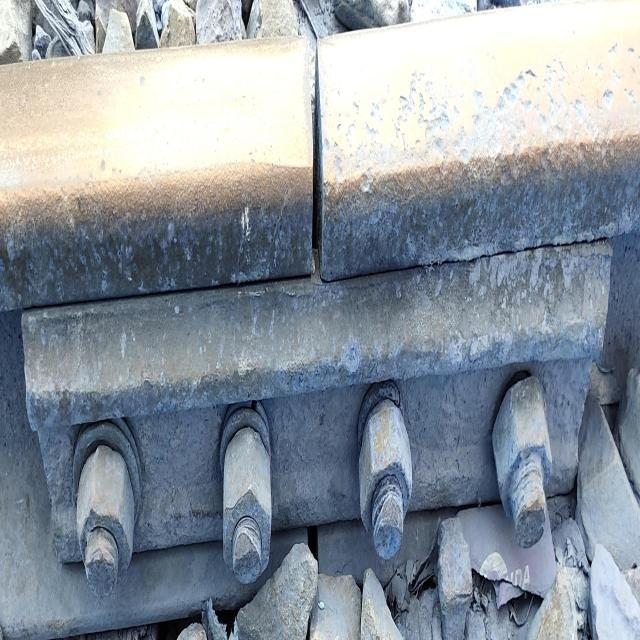Good Joint: (23, 254, 615, 623)
